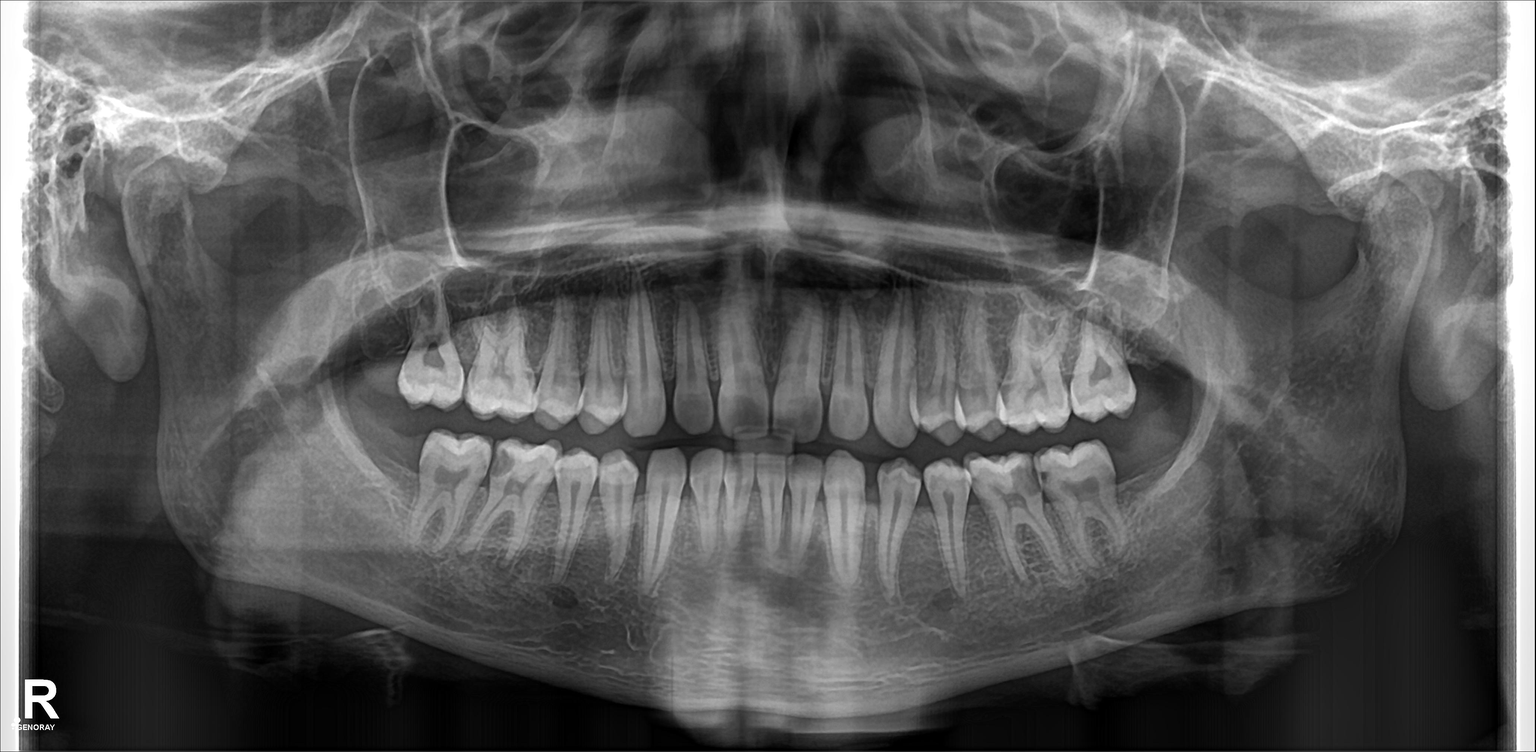Dental Caries: (1013, 463, 1044, 496), (480, 449, 510, 478)
Missing Tooth: (358, 419, 419, 517), (1108, 434, 1178, 518), (1119, 326, 1174, 402), (356, 309, 405, 387)
